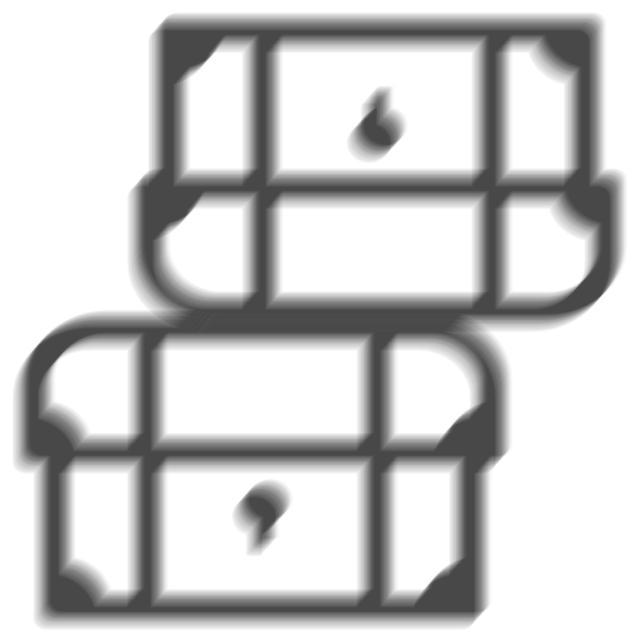treasure_box: (10, 300, 525, 634), (122, 11, 640, 333)
